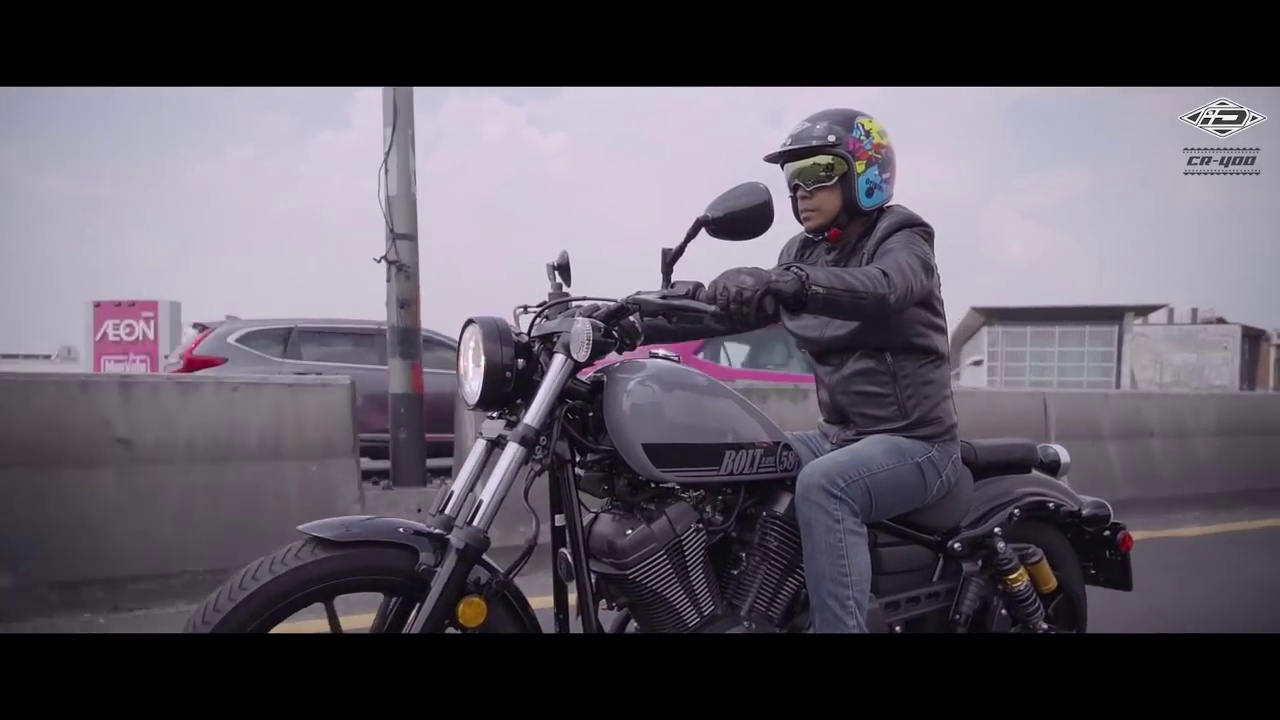helmet: (774, 100, 906, 222)
